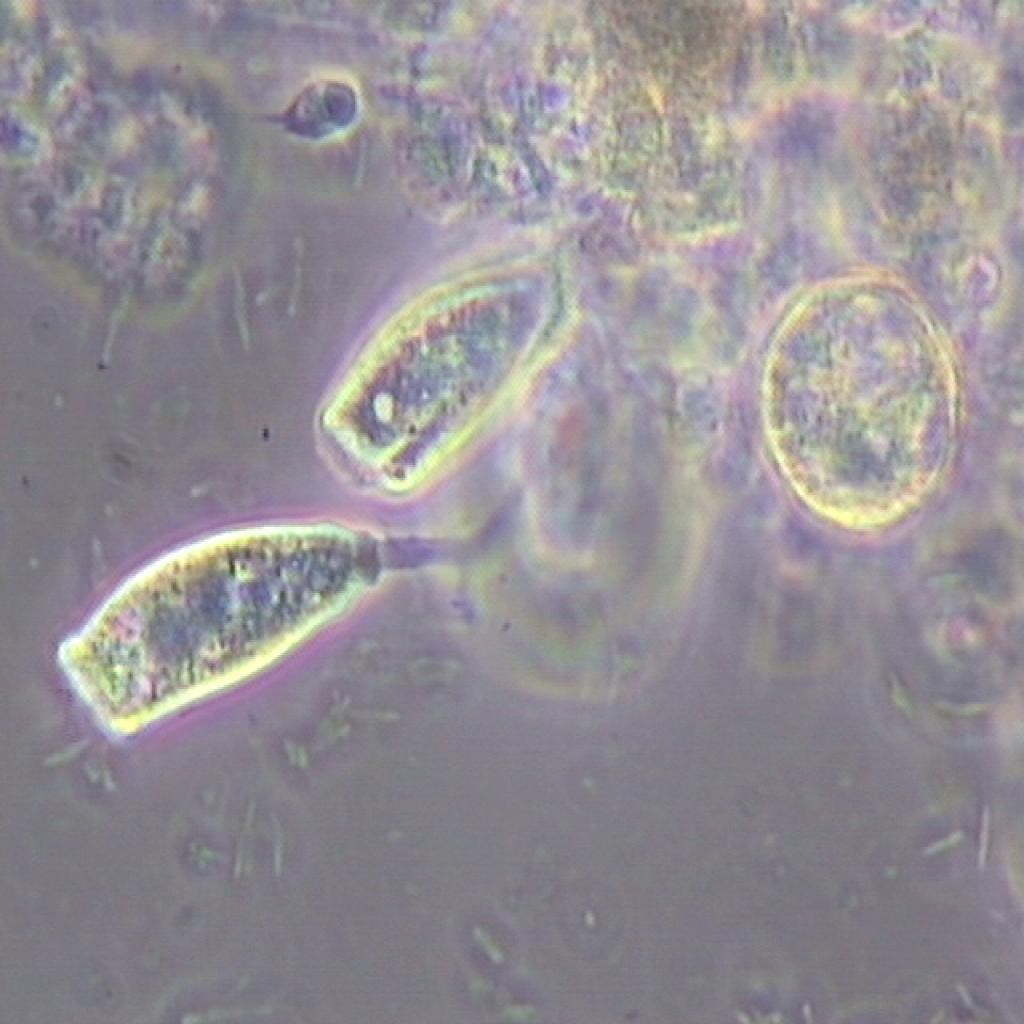Vorticella: (4, 505, 513, 739), (307, 242, 602, 528)
